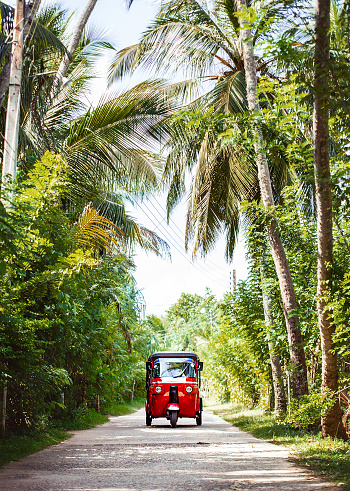threewheel: (143, 352, 203, 428)
